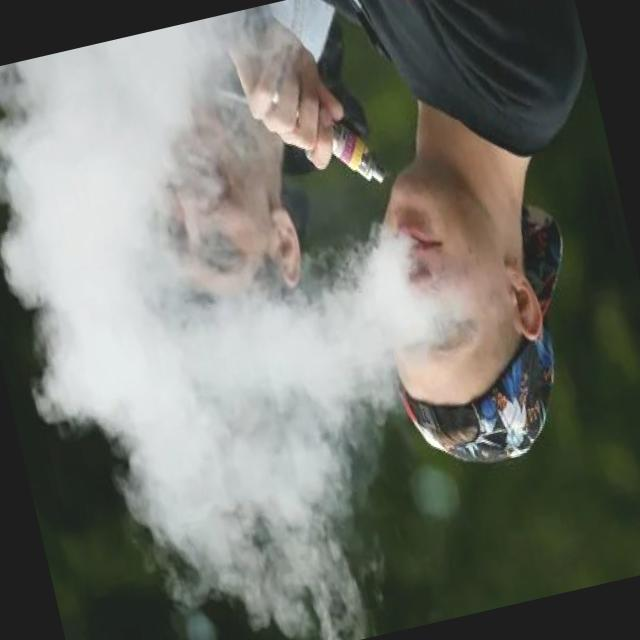smoke: (258, 51, 396, 208)
